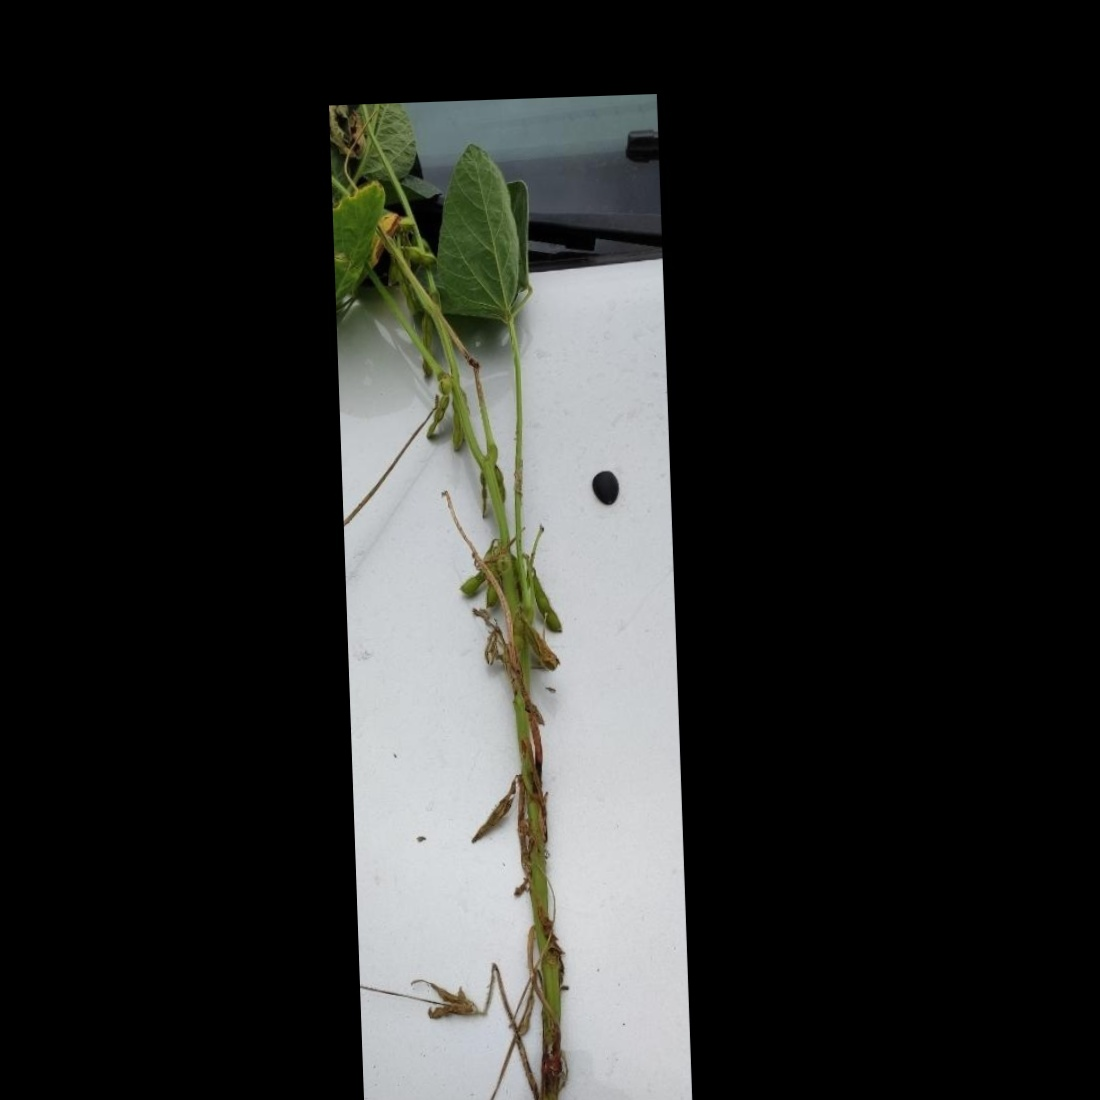pod: (534, 568, 564, 635), (425, 393, 453, 440), (402, 245, 439, 267), (455, 570, 486, 595)
soy: (345, 96, 627, 1100)
